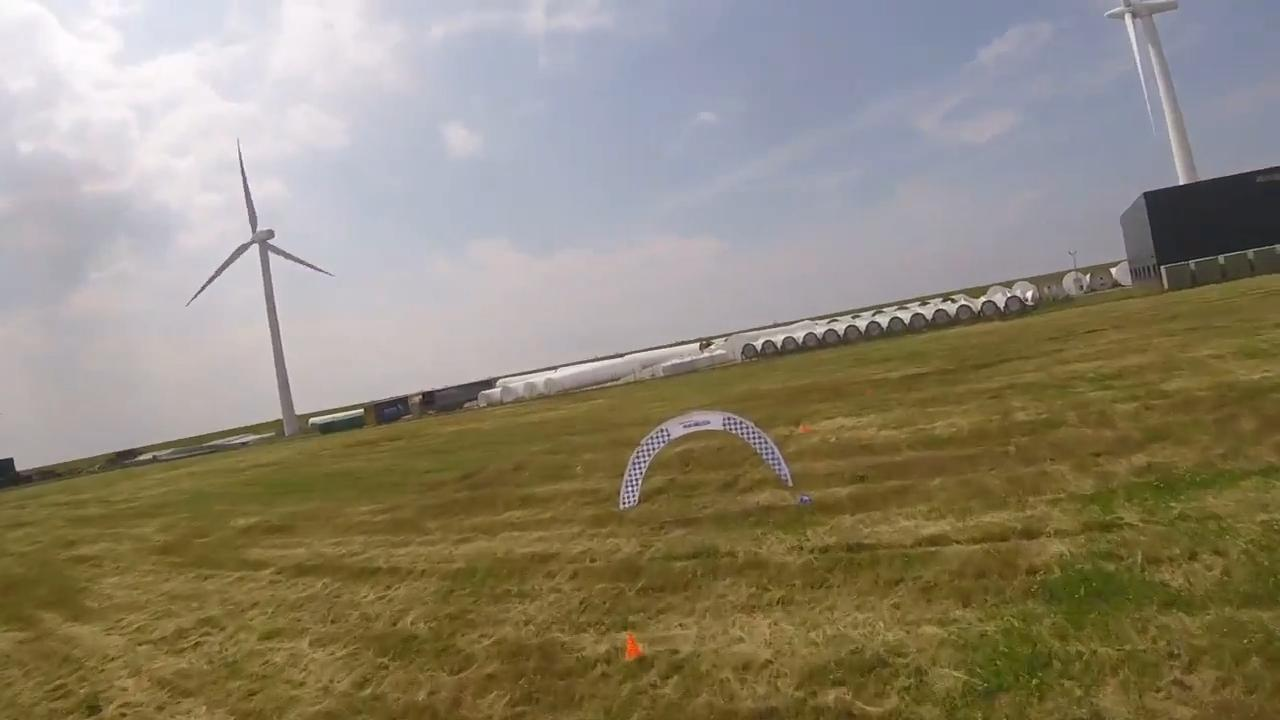gate: (620, 410, 795, 508)
